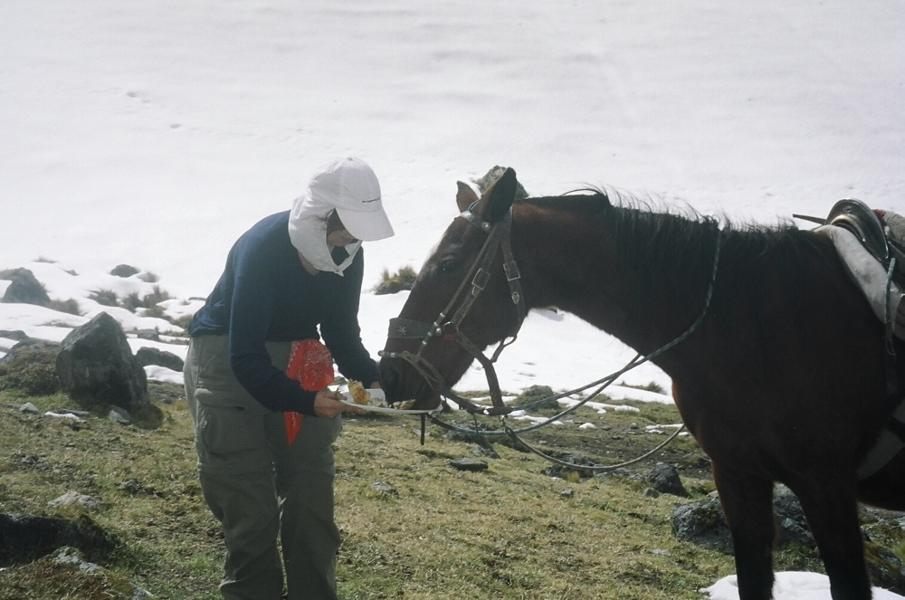person: (187, 161, 393, 600)
